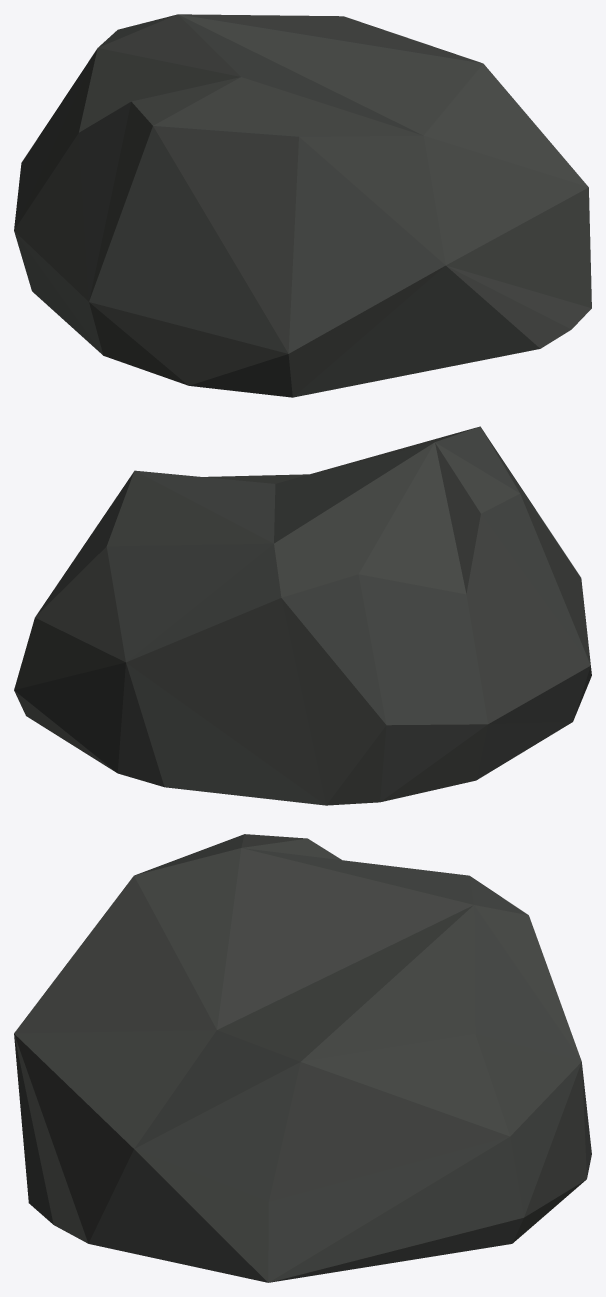
Rendered from hard_beanbag_.fbx.
The picture shows the model from 3 angles, top to bottom: view 1: azimuth 30°, elevation 25°; view 2: azimuth 150°, elevation 25°; view 3: azimuth 270°, elevation 25°; orthographic projection. The views are drawn at different scales.
Visible parts, largest first — view 1: hard_beanbag_; view 2: hard_beanbag_; view 3: hard_beanbag_.
Part boxes in pixels (<box>): hard_beanbag_: <box>14,14,591,397</box>; hard_beanbag_: <box>14,426,591,805</box>; hard_beanbag_: <box>14,834,591,1282</box>.
Size of the model in its own units: 5.52 by 2.55 by 5.23.
